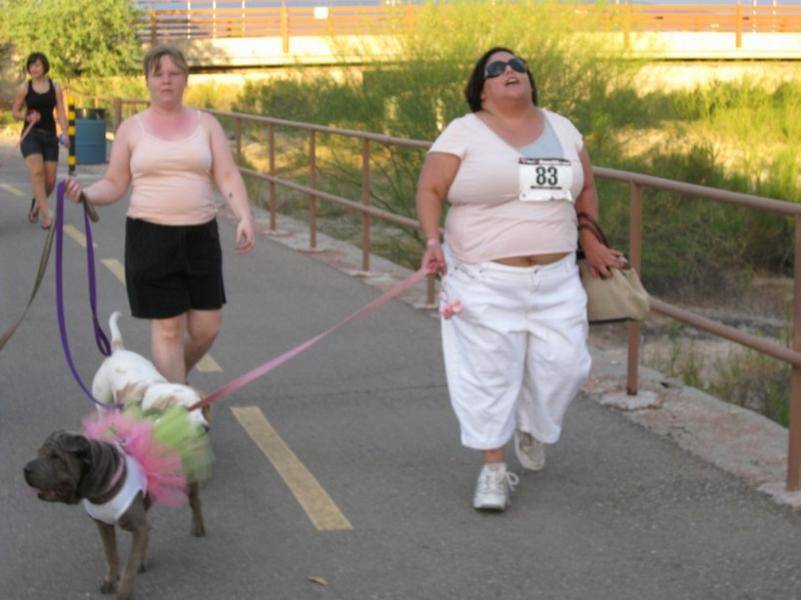person: (416, 47, 620, 512)
